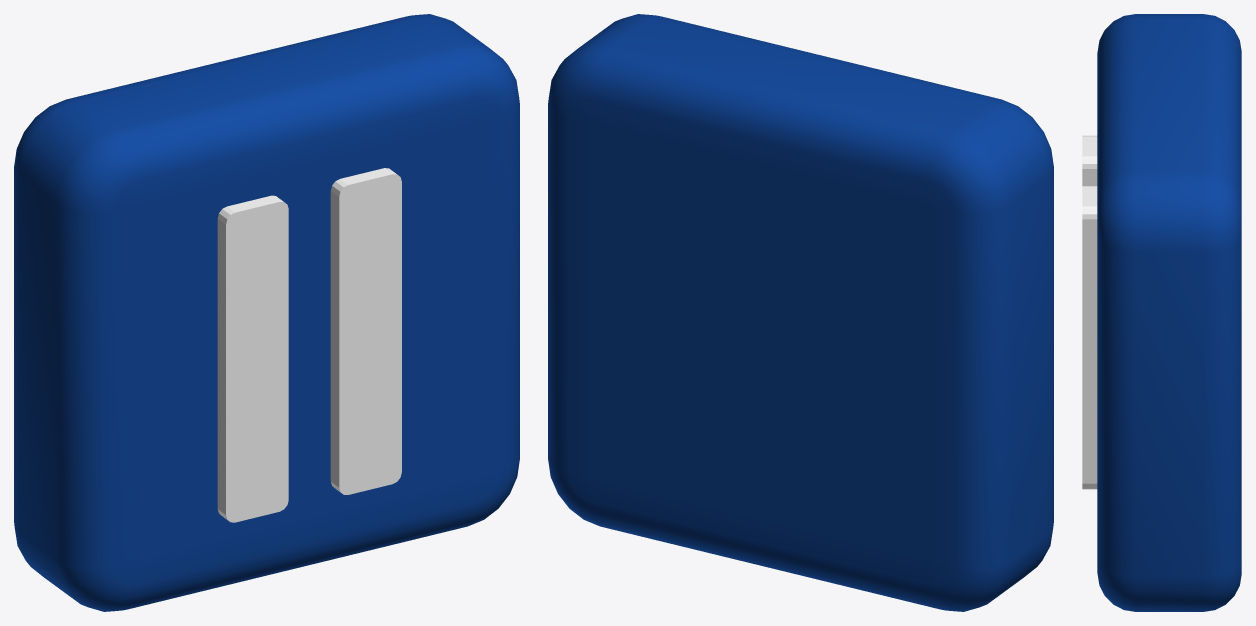
Rendered from pause_button.glb.
The picture shows the model from 3 angles, left to right: view 1: azimuth 30°, elevation 25°; view 2: azimuth 150°, elevation 25°; view 3: azimuth 270°, elevation 25°; orthographic projection. The views are drawn at different scales.
Parts seen in each view (by area): view 1: Cube.6430; view 2: Cube.6430; view 3: Cube.6430.
Boxes of the visible parts, x1,y1,x2,y2 form: Cube.6430: (14,14,519,611); Cube.6430: (548,14,1053,611); Cube.6430: (1082,14,1241,611).
Bounding box in the file's own units: 2.2 × 2.2 × 0.73.
1 material, 1 textured.
